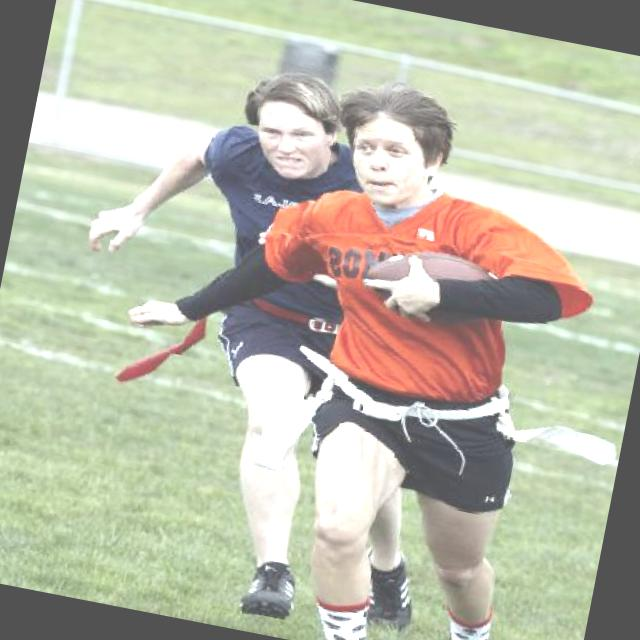Person: (71, 43, 640, 640), (21, 40, 397, 623)
